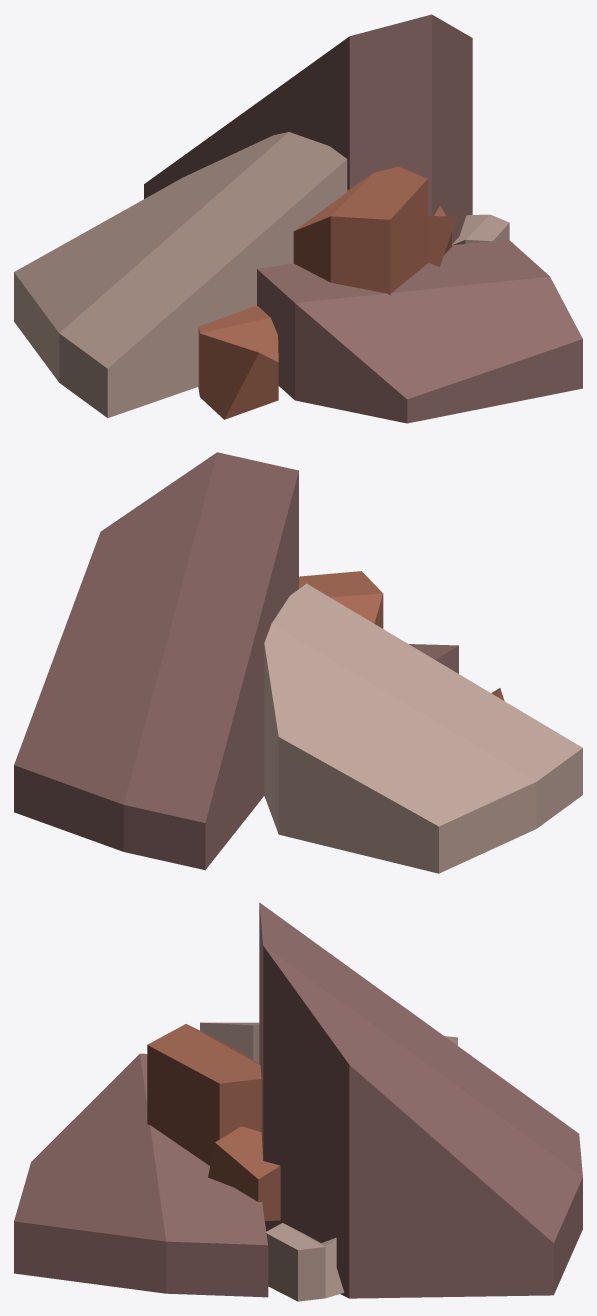
File: rock-type5-02-orange.glb
3 renders of one model, top to bottom at view 1: azimuth 30°, elevation 25°; view 2: azimuth 150°, elevation 25°; view 3: azimuth 270°, elevation 25°, orthographic. The views are drawn at different scales.
Parts seen in each view (by area): view 1: Rock_Type5_02_mesh; view 2: Rock_Type5_02_mesh; view 3: Rock_Type5_02_mesh.
Part boxes in pixels (x1,y1,x2,y2): Rock_Type5_02_mesh: [14, 14, 582, 423]; Rock_Type5_02_mesh: [14, 452, 582, 873]; Rock_Type5_02_mesh: [14, 902, 582, 1301].
Size of the model in its own units: 2.26 by 1.44 by 2.36.
Materials: 1 (1 with a texture image).
